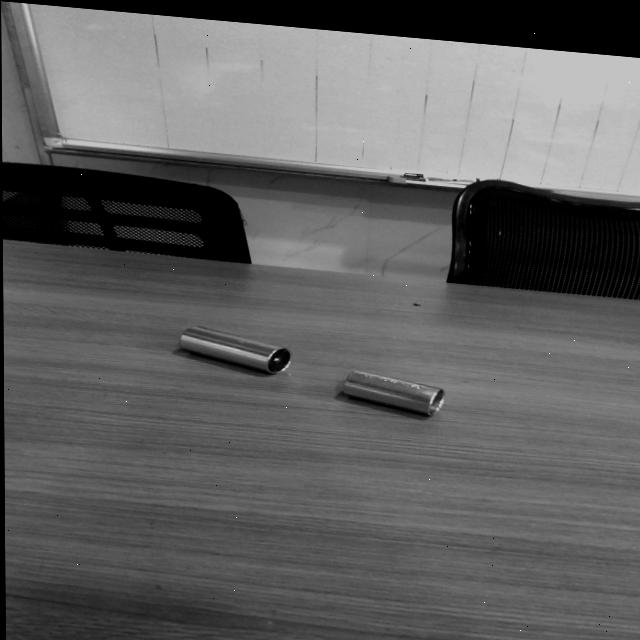Co_Lon: (177, 322, 292, 377)
Co_Nho: (340, 366, 445, 418)
